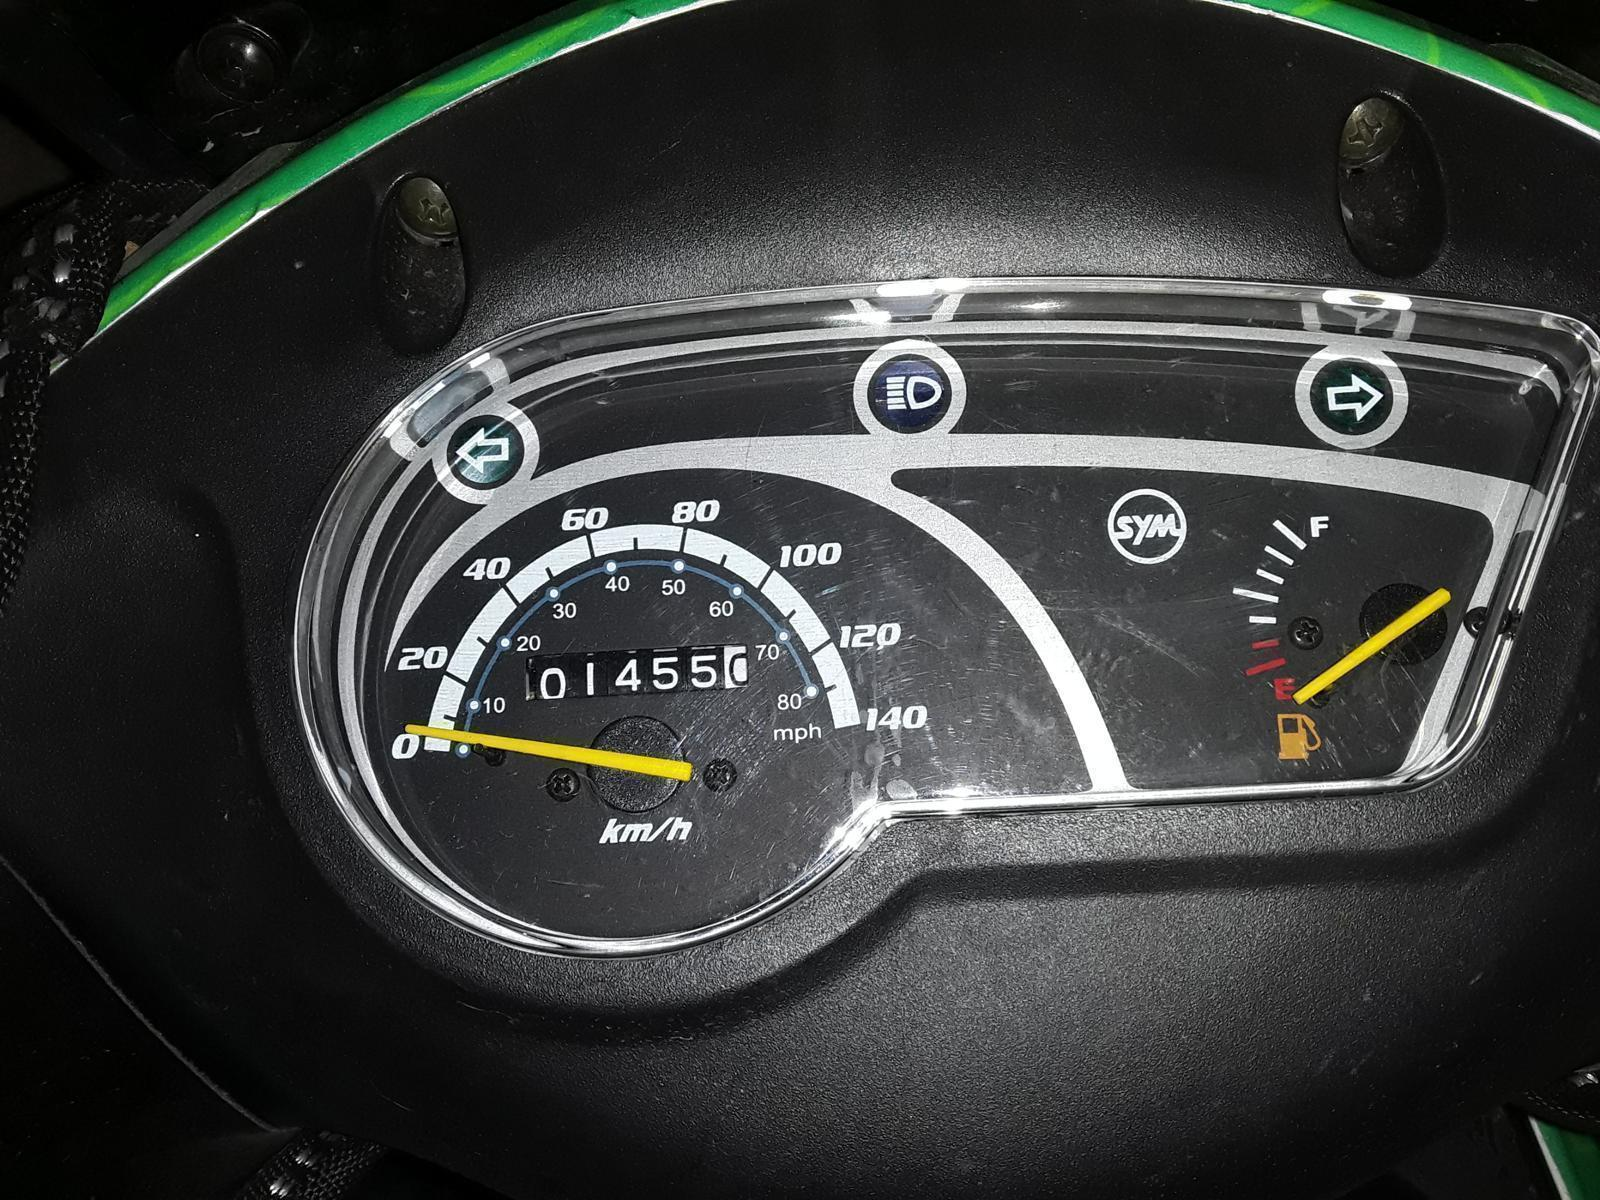0: (537, 666, 566, 700), (726, 650, 748, 687), (529, 638, 540, 650)
1: (581, 659, 598, 696)
2: (520, 639, 528, 652)
4: (612, 655, 643, 692)
5: (689, 652, 719, 689), (650, 654, 680, 691)
odometer: (519, 639, 753, 703)
